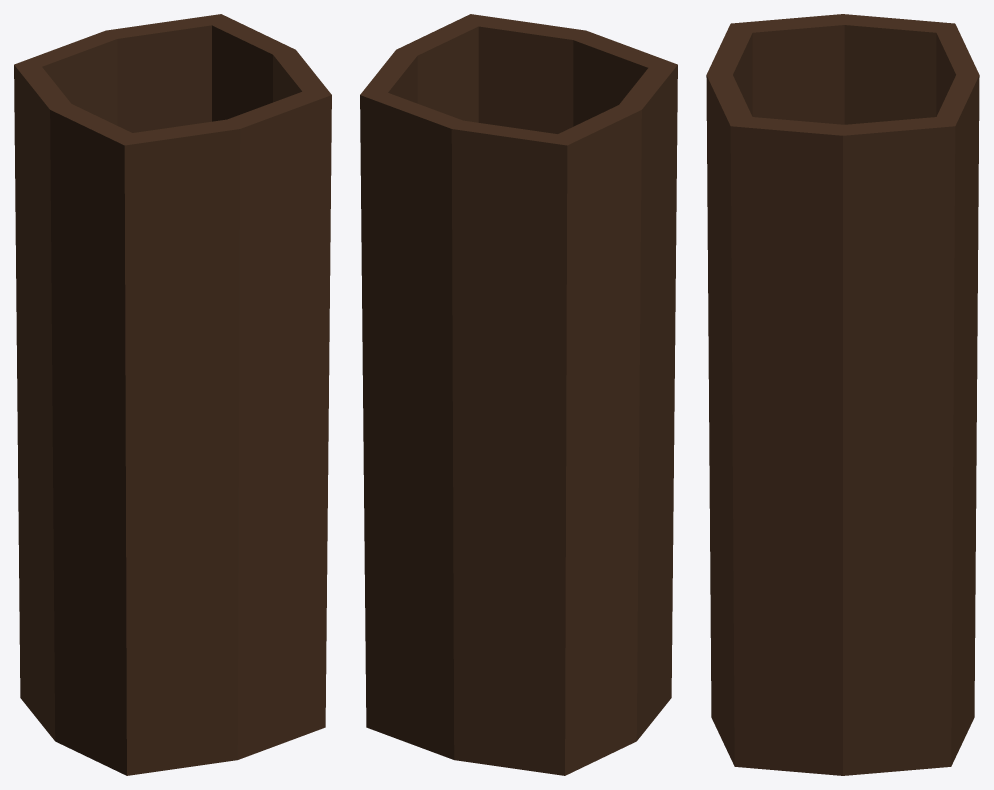
The model's file is rouleau_pq_vide.fbx.
The picture shows the model from 3 angles, left to right: view 1: azimuth 30°, elevation 25°; view 2: azimuth 150°, elevation 25°; view 3: azimuth 270°, elevation 25°; orthographic projection.
Parts seen in each view (by area): view 1: rouleau pq vide; view 2: rouleau pq vide; view 3: rouleau pq vide.
Boxes of the visible parts, left/top/right/bottom form: rouleau pq vide: left=14, top=14, right=331, bottom=775; rouleau pq vide: left=360, top=14, right=677, bottom=775; rouleau pq vide: left=706, top=14, right=979, bottom=775.
Size of the model in its own units: 40.64 by 100 by 38.5.
